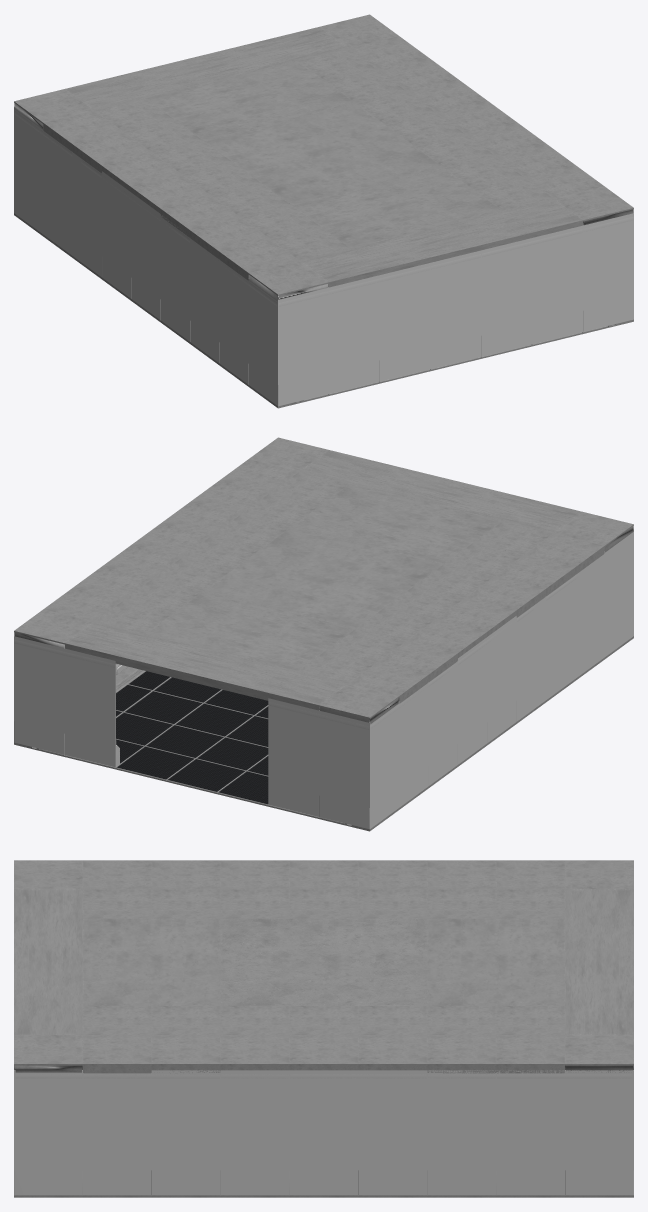
Rendered from Habitacion2Opti.fbx.
3 renders of one model, top to bottom at view 1: azimuth 30°, elevation 25°; view 2: azimuth 150°, elevation 25°; view 3: azimuth 270°, elevation 25°, orthographic. The views are drawn at different scales.
Visible parts, largest first — view 1: SM_Ceiling_Center__8_, SM_Wall_AA__4_, SM_Floor_Center__25_; view 2: SM_Ceiling_Center__8_, SM_Wall_AA__4_, SM_Floor_Center__25_; view 3: SM_Ceiling_Center__8_, SM_Wall_AA__4_, SM_Floor_Center__25_.
Part boxes in pixels (x1,y1,x2,y2): SM_Ceiling_Center__8_: (14, 14, 633, 301); SM_Wall_AA__4_: (14, 107, 633, 406); SM_Floor_Center__25_: (14, 213, 633, 408); SM_Ceiling_Center__8_: (14, 437, 633, 724); SM_Wall_AA__4_: (14, 530, 633, 829); SM_Floor_Center__25_: (14, 636, 633, 831); SM_Ceiling_Center__8_: (14, 860, 633, 1073); SM_Wall_AA__4_: (14, 1070, 633, 1195); SM_Floor_Center__25_: (14, 1195, 633, 1197).
Size of the model in its own units: 140 by 42.8 by 180.
